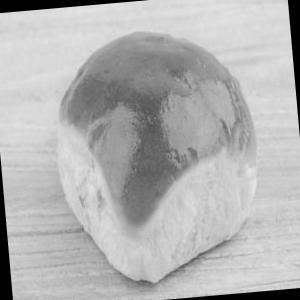bread: (31, 11, 271, 287)
